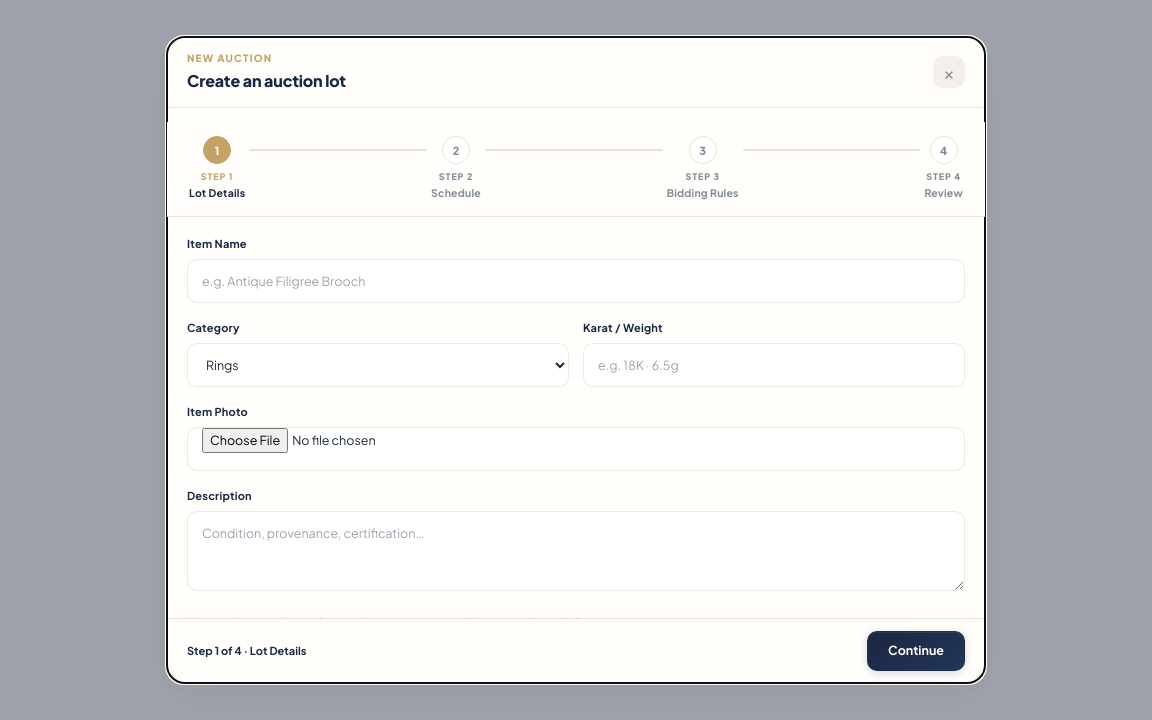
Test case: Review displays the increment
The image size is (1152, 720).
Type "Test Ring" into the field with placeholder "e.g. Antique Filigree Brooch".
click(576, 280); type("Test Ring")  # box [187,258,965,302]
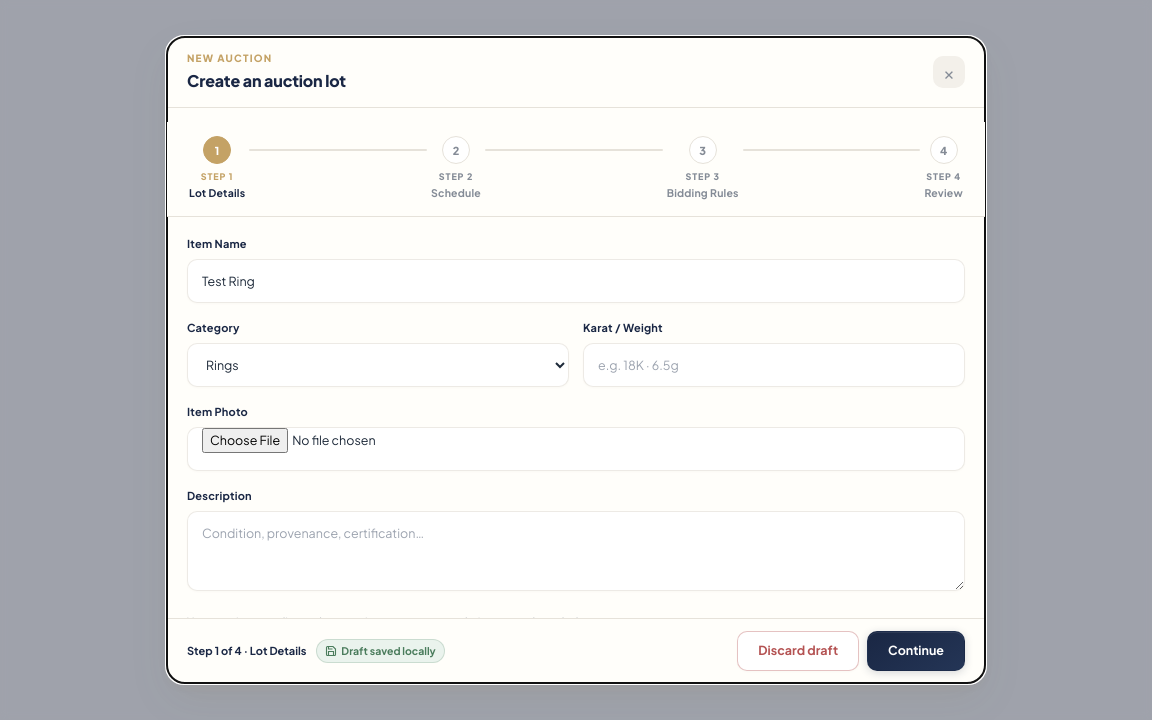
Click the button "Continue".
click(916, 651)  # box [867,631,965,671]
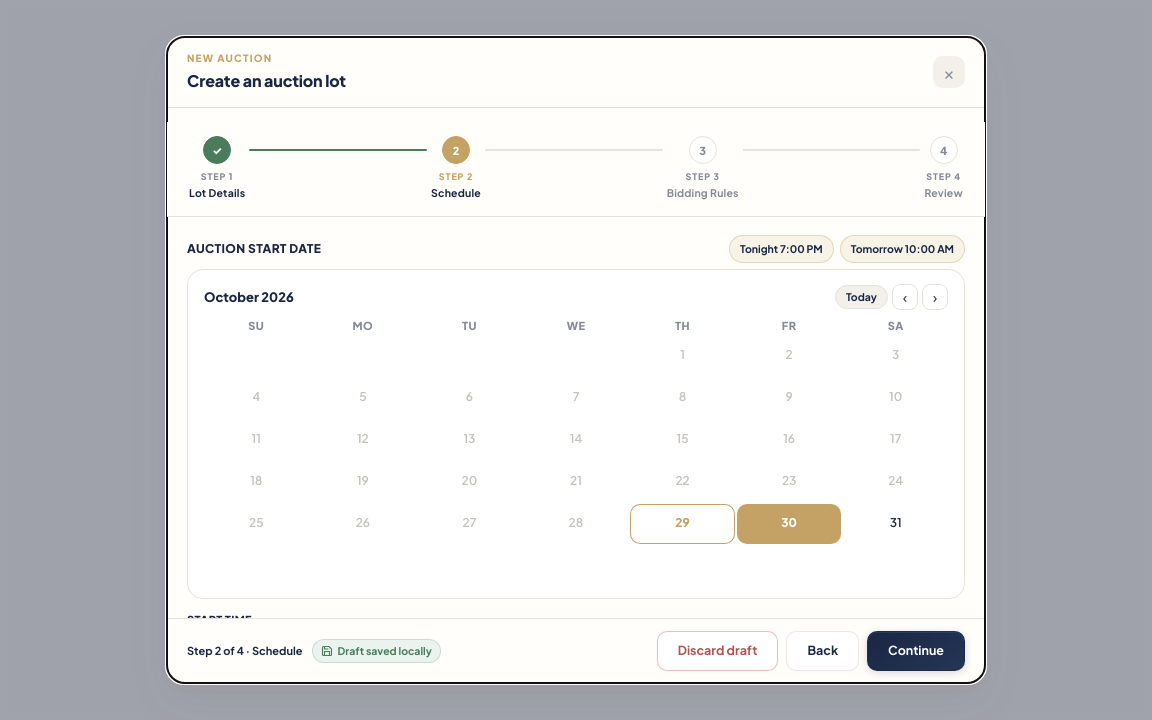
Click the button "Continue".
click(916, 651)  # box [867,631,965,671]
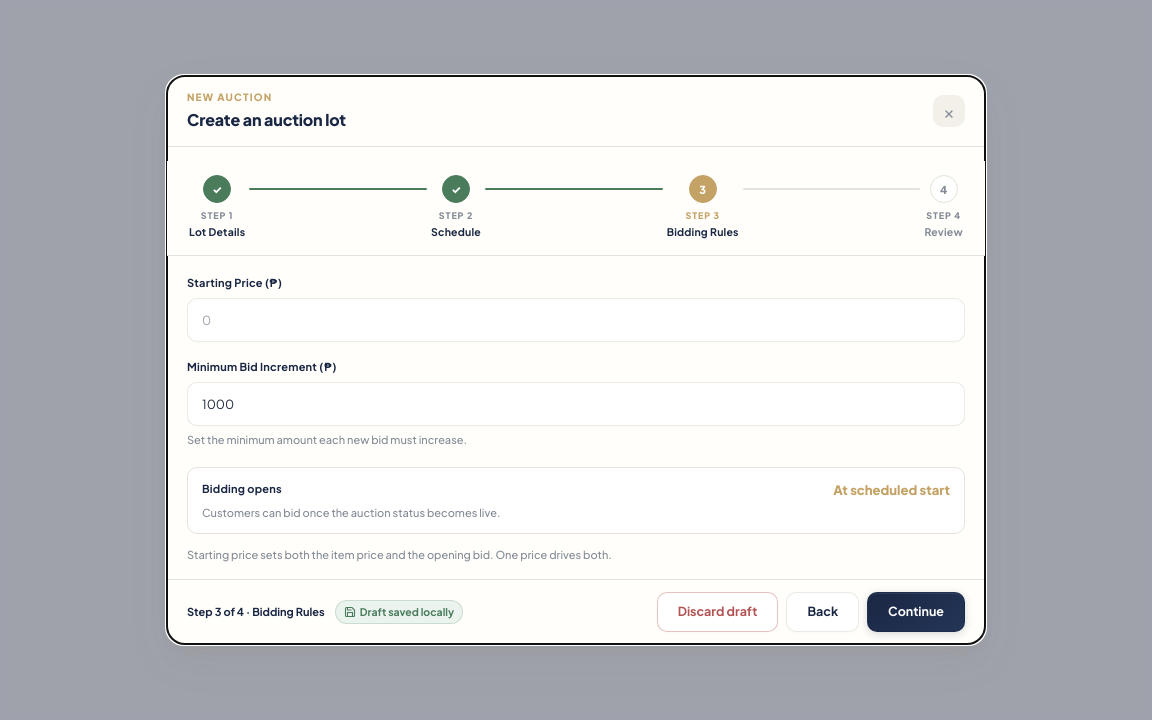
Type "70000" into the number field named "startPrice".
click(576, 320); type("70000")  # box [187,298,965,342]
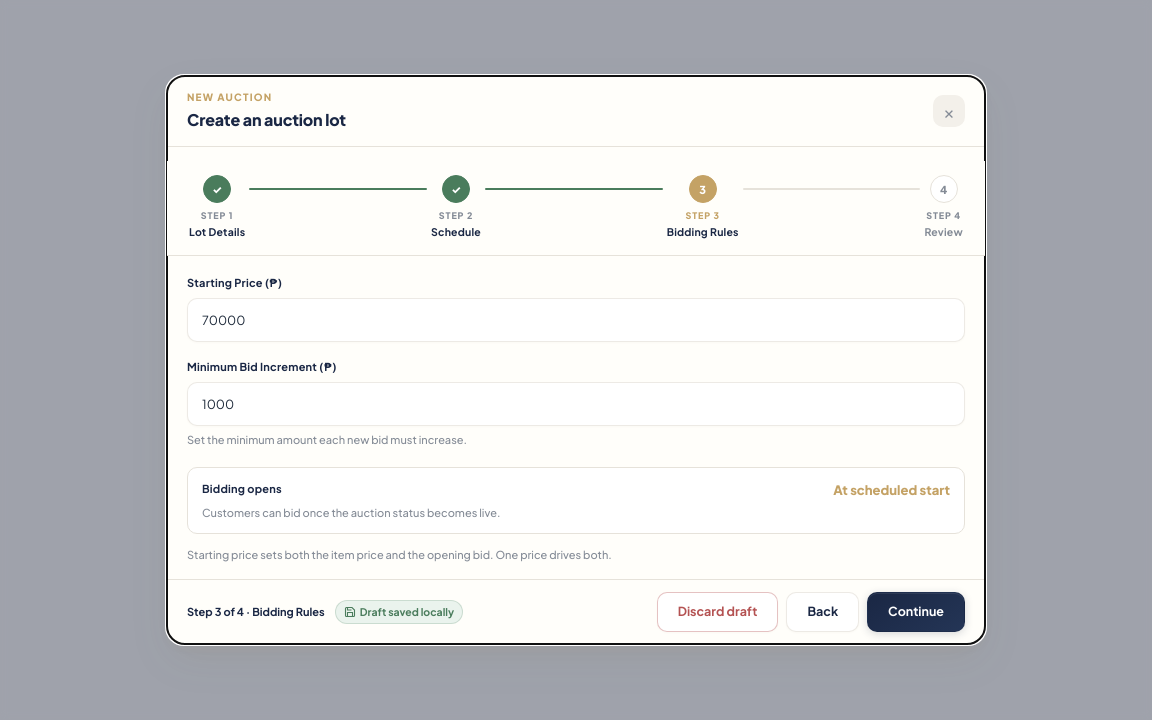
Type "2000" into the number field labelled "Minimum Bid Increment (₱)".
click(576, 404); type("2000")  # box [187,382,965,426]
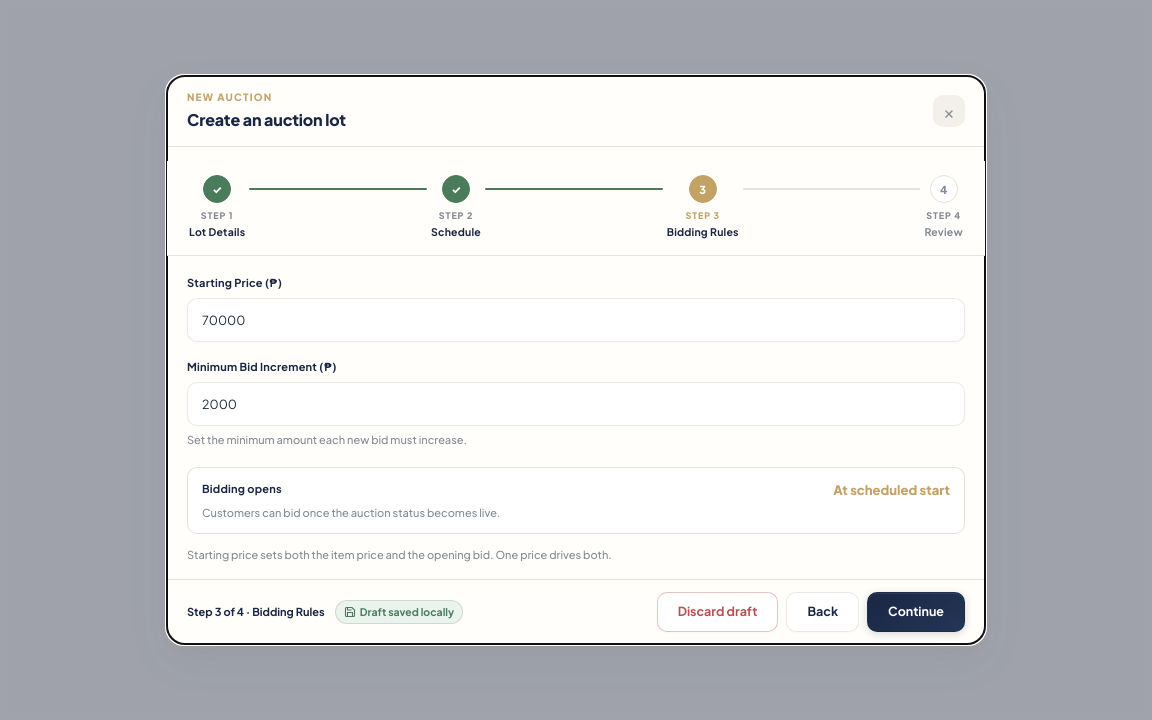
Click the button "Continue".
click(916, 612)  # box [867,592,965,632]
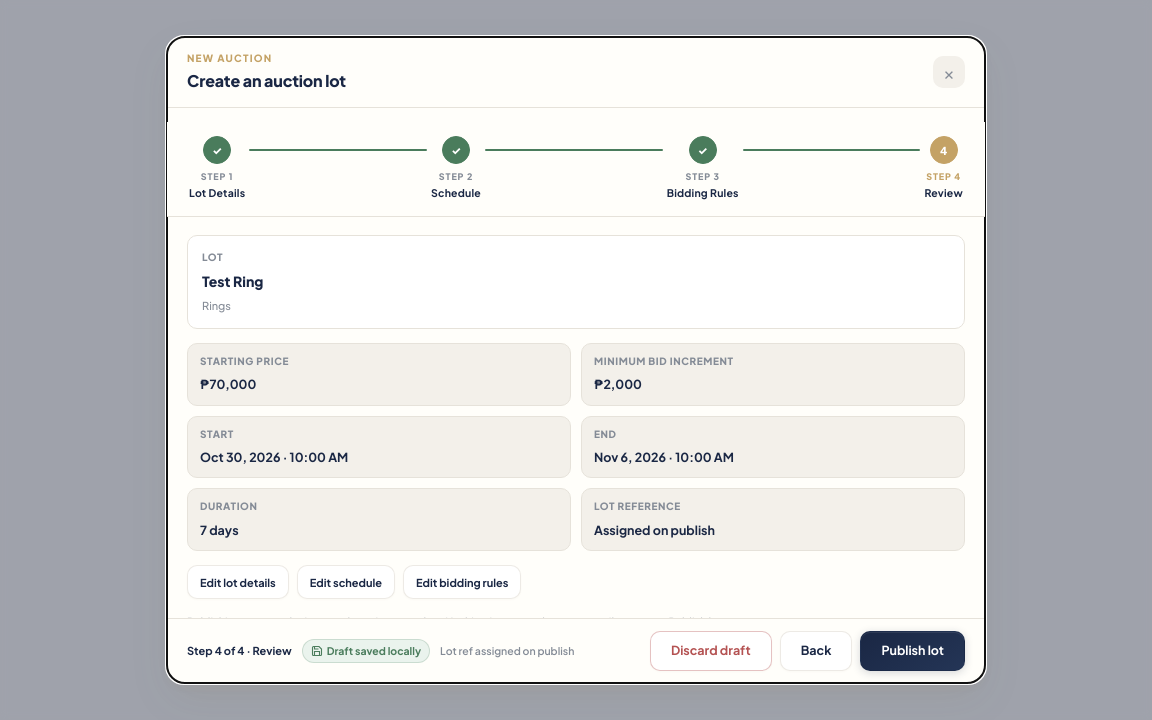
Check: the text "Minimum Bid Increment" is shown, box [594,355,734,367]
Check: the text "₱2,000" is shown, box [594,376,642,392]
